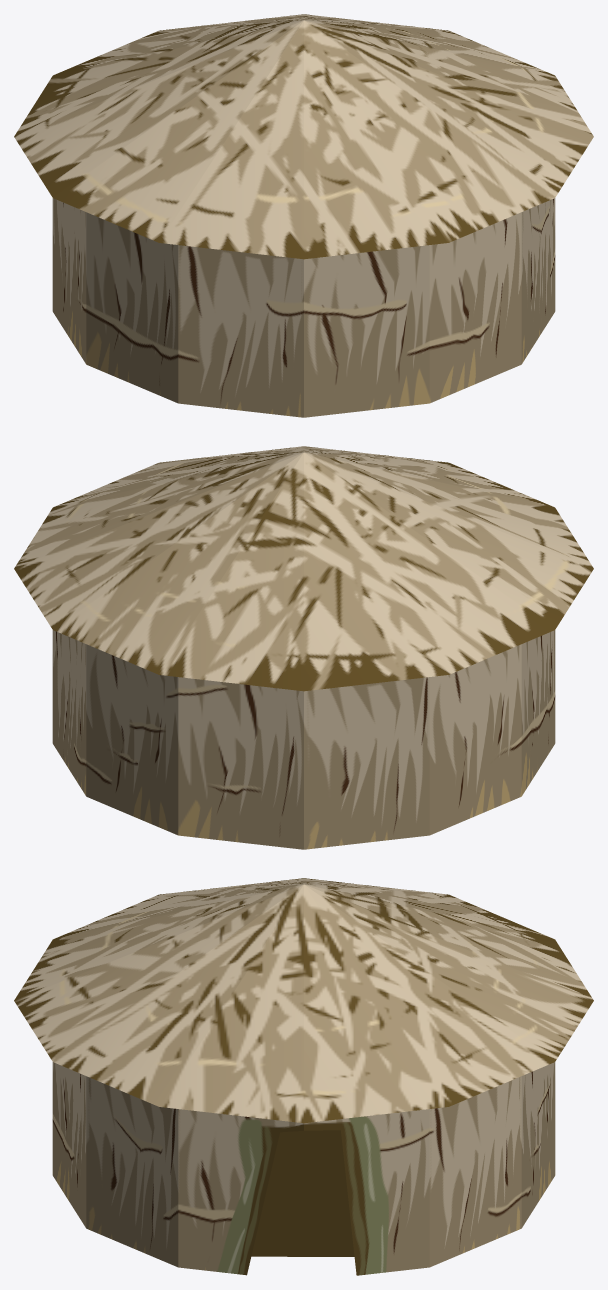
The model's file is casaPalha01.FBX.
The picture shows the model from 3 angles, top to bottom: view 1: azimuth 30°, elevation 25°; view 2: azimuth 150°, elevation 25°; view 3: azimuth 270°, elevation 25°; orthographic projection.
Visible parts, largest first — view 1: barracaPalha01; view 2: barracaPalha01; view 3: barracaPalha01.
Boxes of the visible parts, x1,y1,x2,y2 form: barracaPalha01: (14,14,593,417); barracaPalha01: (14,446,593,849); barracaPalha01: (14,878,593,1275).
Bounding box in the file's own units: 318 × 176 × 318.
